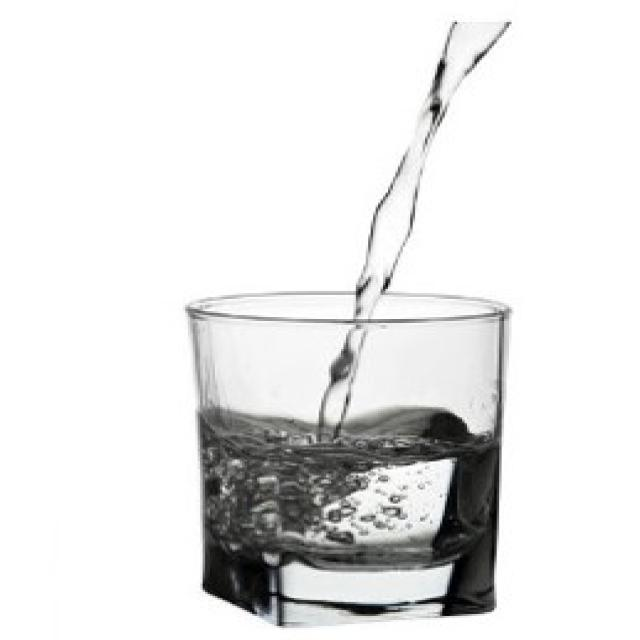electronic: (183, 290, 518, 628)
